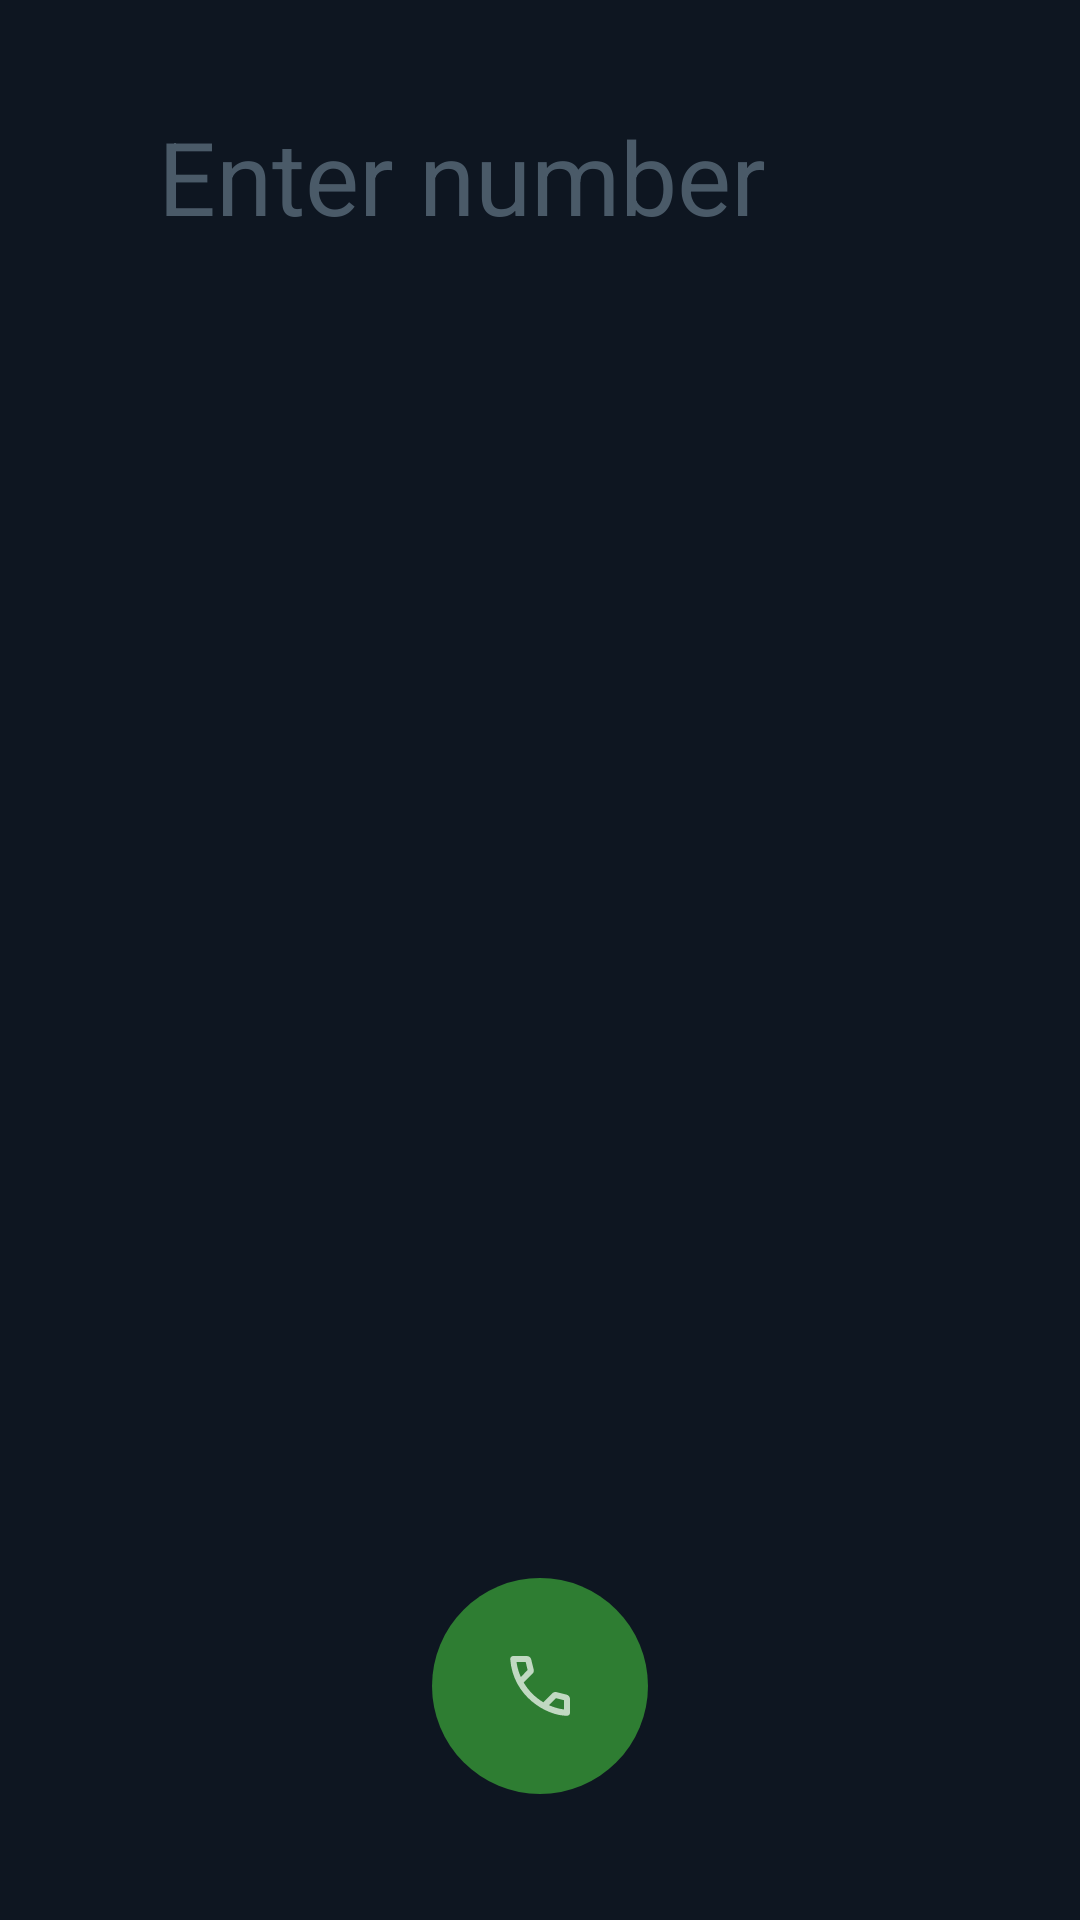

Locate icon controls on the screen. Image size 1080px x 1920px, boxes as (x1, y1, x2, y2).
Call: (432, 1578, 648, 1794)
